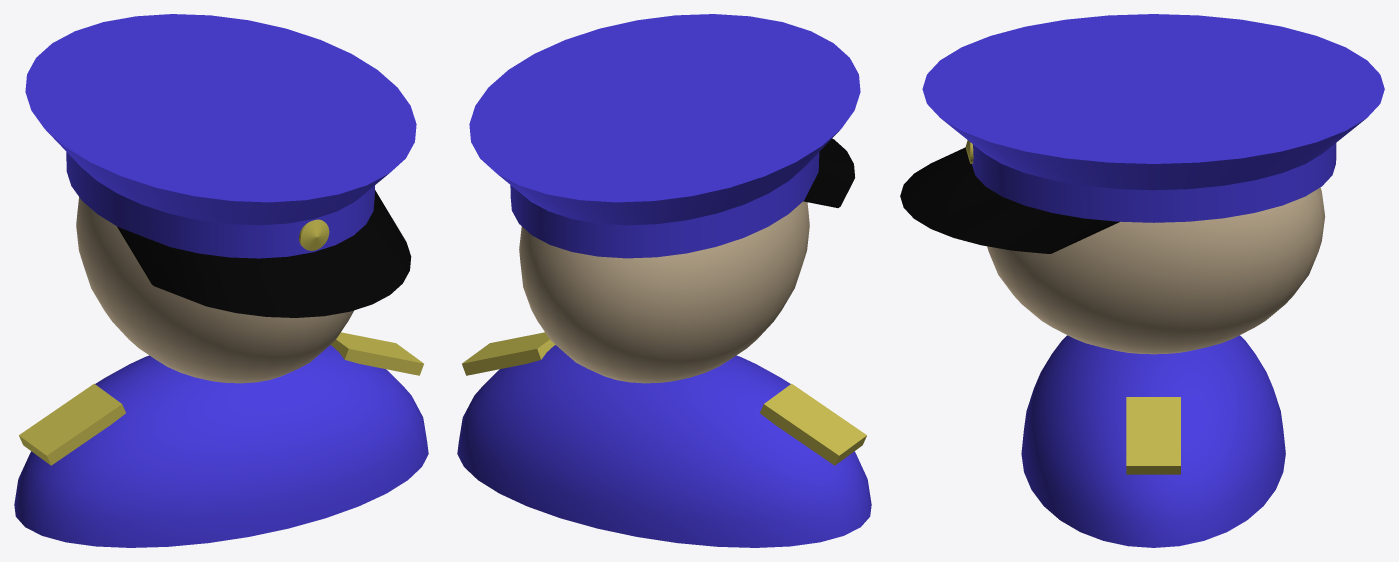
The model's file is Policeman.fbx.
3 views of the same model, side by side, from view 1: azimuth 30°, elevation 25°; view 2: azimuth 150°, elevation 25°; view 3: azimuth 270°, elevation 25° (orthographic).
Visible parts, largest first — view 1: Circle, Sphere, Sphere.001, Cube, Circle.001; view 2: Circle, Sphere, Sphere.001, Cube; view 3: Circle, Sphere, Sphere.001, Cube.
Boxes of the visible parts, left/top/right/bottom form: Circle: left=25, top=14, right=416, bottom=317; Sphere: left=14, top=345, right=428, bottom=547; Sphere.001: left=76, top=197, right=353, bottom=383; Cube: left=19, top=332, right=423, bottom=465; Circle.001: left=299, top=219, right=329, bottom=250; Circle: left=469, top=14, right=860, bottom=258; Sphere: left=457, top=345, right=871, bottom=547; Sphere.001: left=519, top=201, right=809, bottom=383; Cube: left=462, top=332, right=866, bottom=465; Circle: left=900, top=14, right=1384, bottom=253; Sphere: left=1021, top=335, right=1285, bottom=547; Sphere.001: left=987, top=187, right=1325, bottom=354; Cube: left=1126, top=397, right=1180, bottom=474.
Size of the model in its own units: 200 by 181 by 218.
